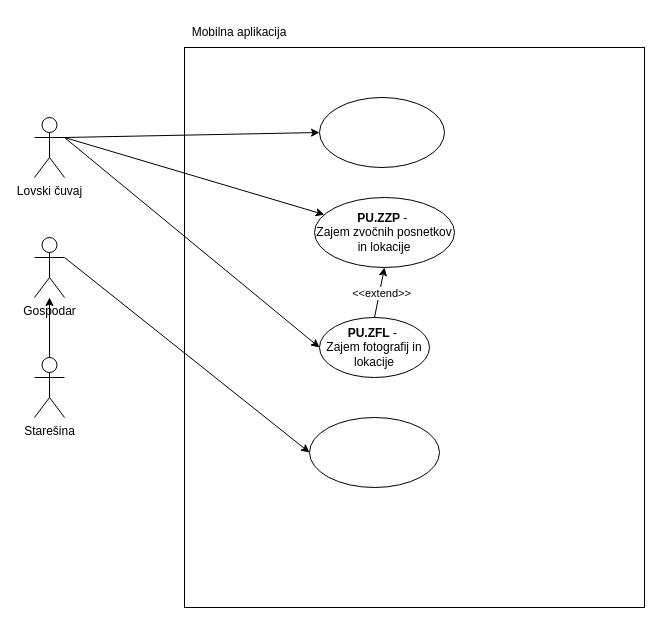
Some shapes in this 662 by 625 pixel diagram are drawn without their labels. Each missing label, with the centre of its shape:
PU- PPL - Pregled prisotnosti lovcev in čuvajev na lovišču: [374,452]
PU.BVI - Beleženje vstopa v lovišče in izstopa iz lovišča: [381,132]
